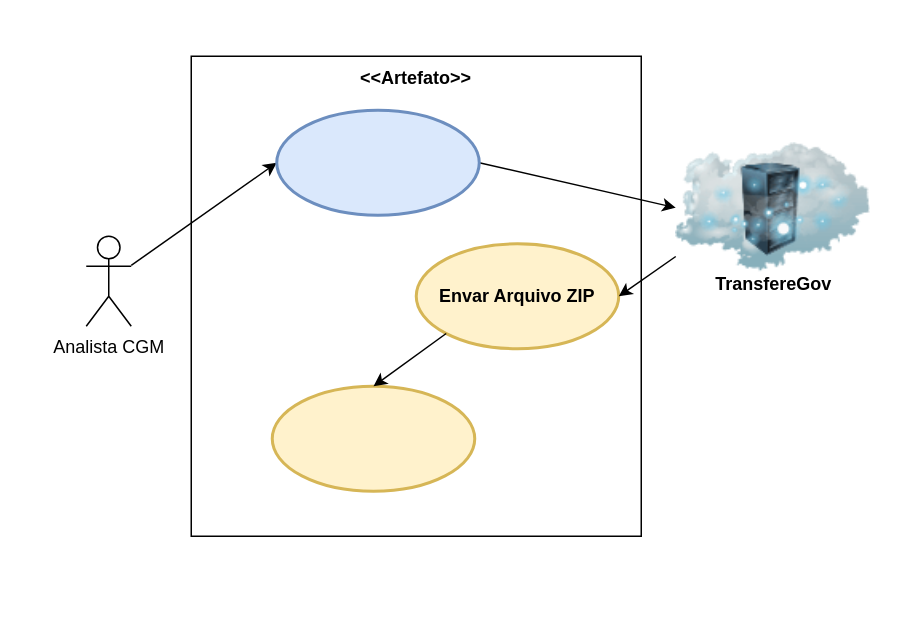
The diagram is 906 pixels wide and 636 high, and some of its shapes have lost their labels. Each missing label, with the centre of its shape:
Descompactar Arquivo ZIP: the point at 373,438
Solicitar Arquivo ZIP: the point at 377,162
